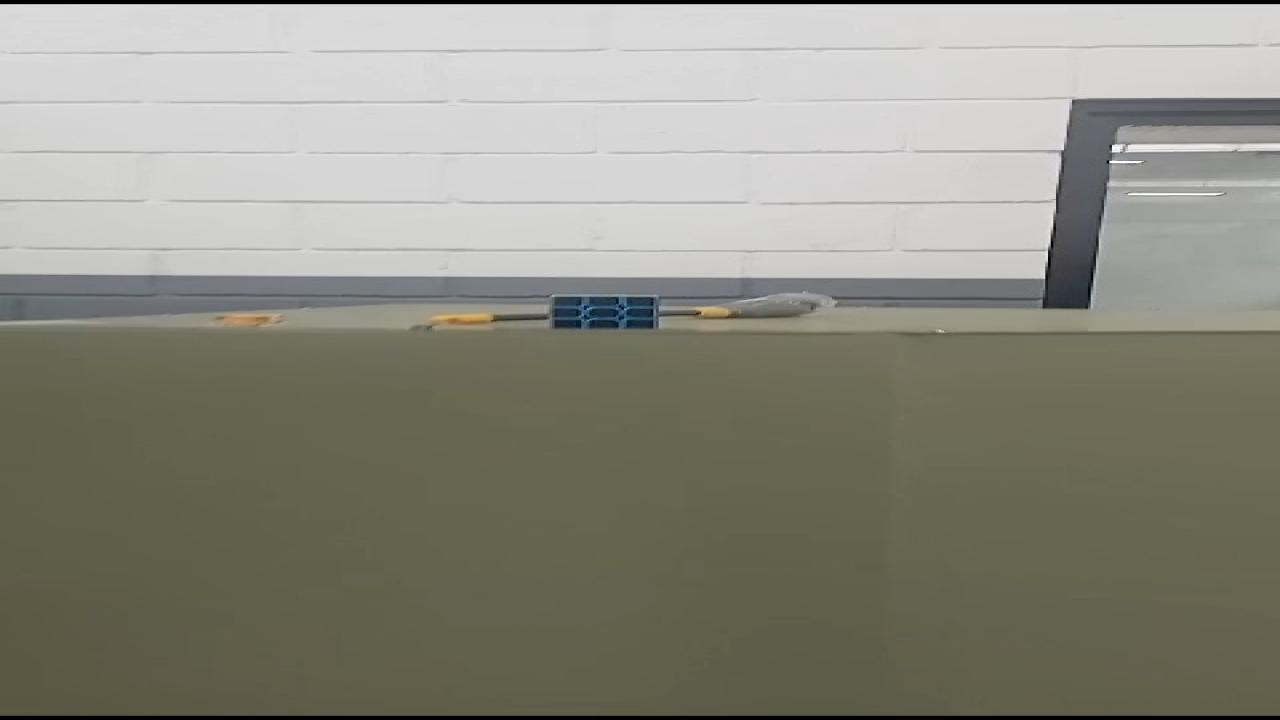Cube: (544, 293, 661, 329)
